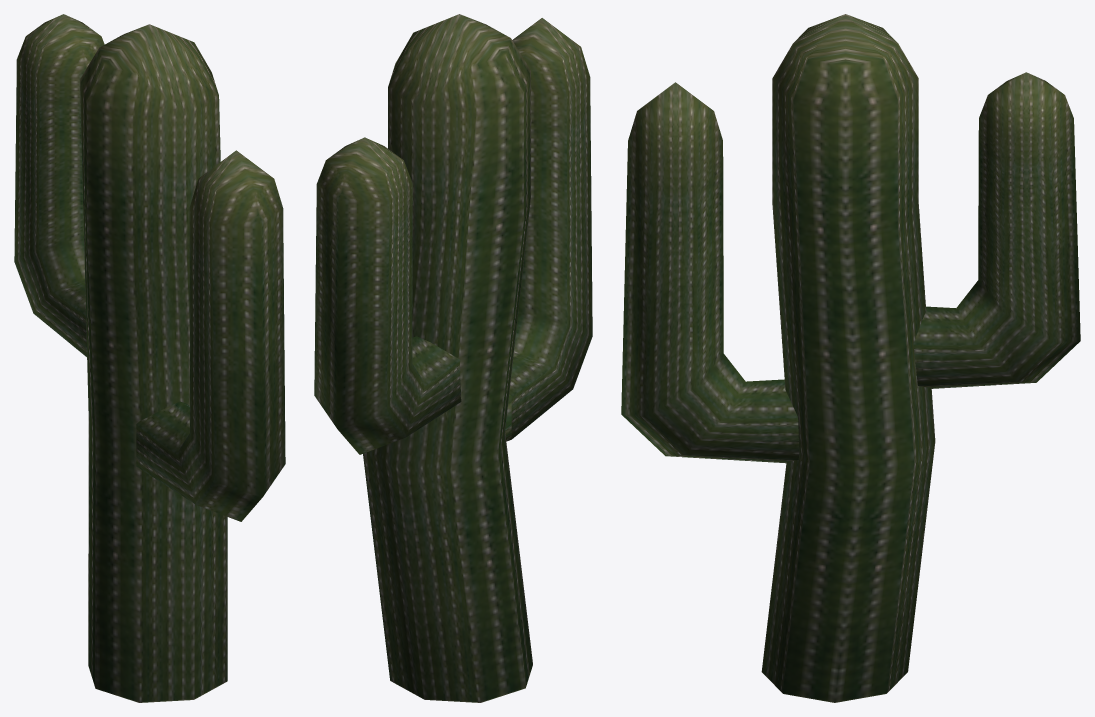
File: Cactus.obj
The picture shows the model from 3 angles, left to right: view 1: azimuth 30°, elevation 25°; view 2: azimuth 150°, elevation 25°; view 3: azimuth 270°, elevation 25°; orthographic projection. The views are drawn at different scales.
Visible parts, largest first — view 1: Cactus; view 2: Cactus; view 3: Cactus.
Boxes of the visible parts, bbox=[...] form: Cactus: bbox=[14, 14, 285, 702]; Cactus: bbox=[314, 14, 592, 702]; Cactus: bbox=[621, 14, 1080, 702].
Size of the model in its own units: 1.56 by 6.79 by 4.31.
